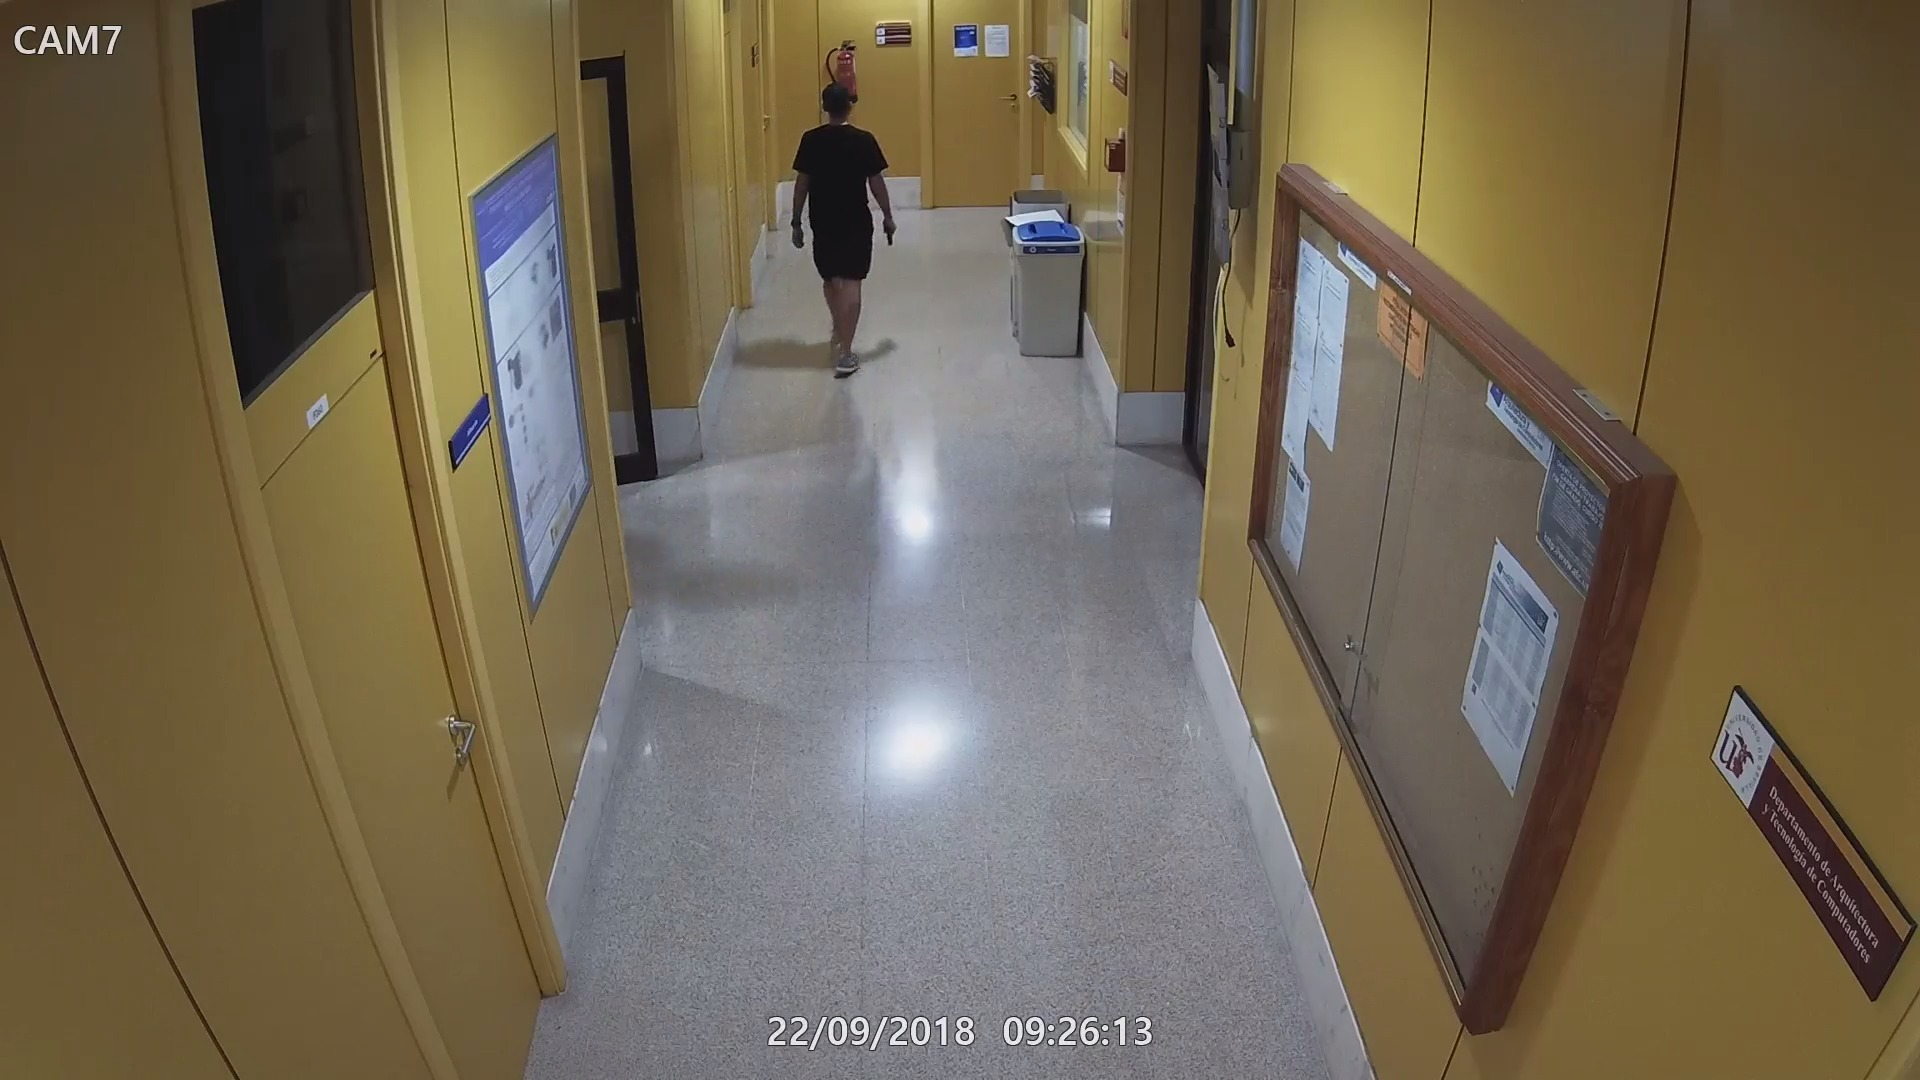pistol: (876, 215, 902, 245)
